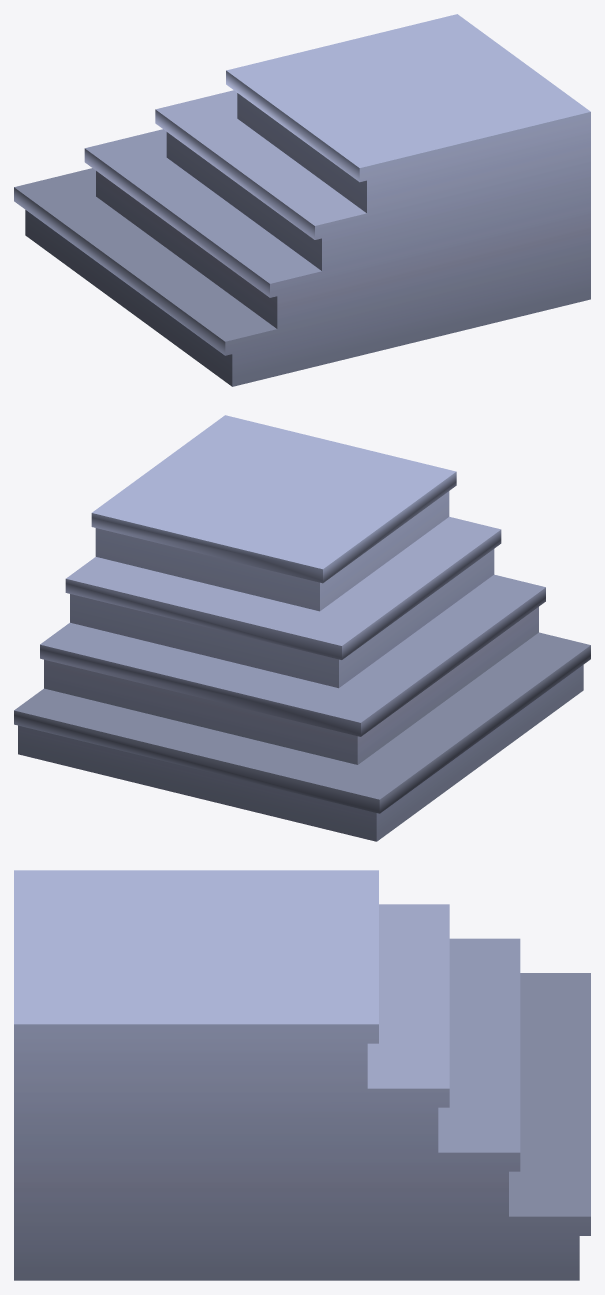
The model's file is kenney-fantasy-town-stairs-full-corner-outer.glb.
3 views of the same model, one above another, from view 1: azimuth 30°, elevation 25°; view 2: azimuth 150°, elevation 25°; view 3: azimuth 270°, elevation 25° (orthographic). The views are drawn at different scales.
Parts seen in each view (by area): view 1: stairs-full-corner-outer; view 2: stairs-full-corner-outer; view 3: stairs-full-corner-outer.
Part boxes in pixels (bbox=[...]): stairs-full-corner-outer: bbox=[14, 14, 590, 386]; stairs-full-corner-outer: bbox=[14, 415, 590, 841]; stairs-full-corner-outer: bbox=[14, 870, 590, 1280].
Size of the model in its own units: 1.02 by 0.5 by 1.02.
1 material, 1 textured.
